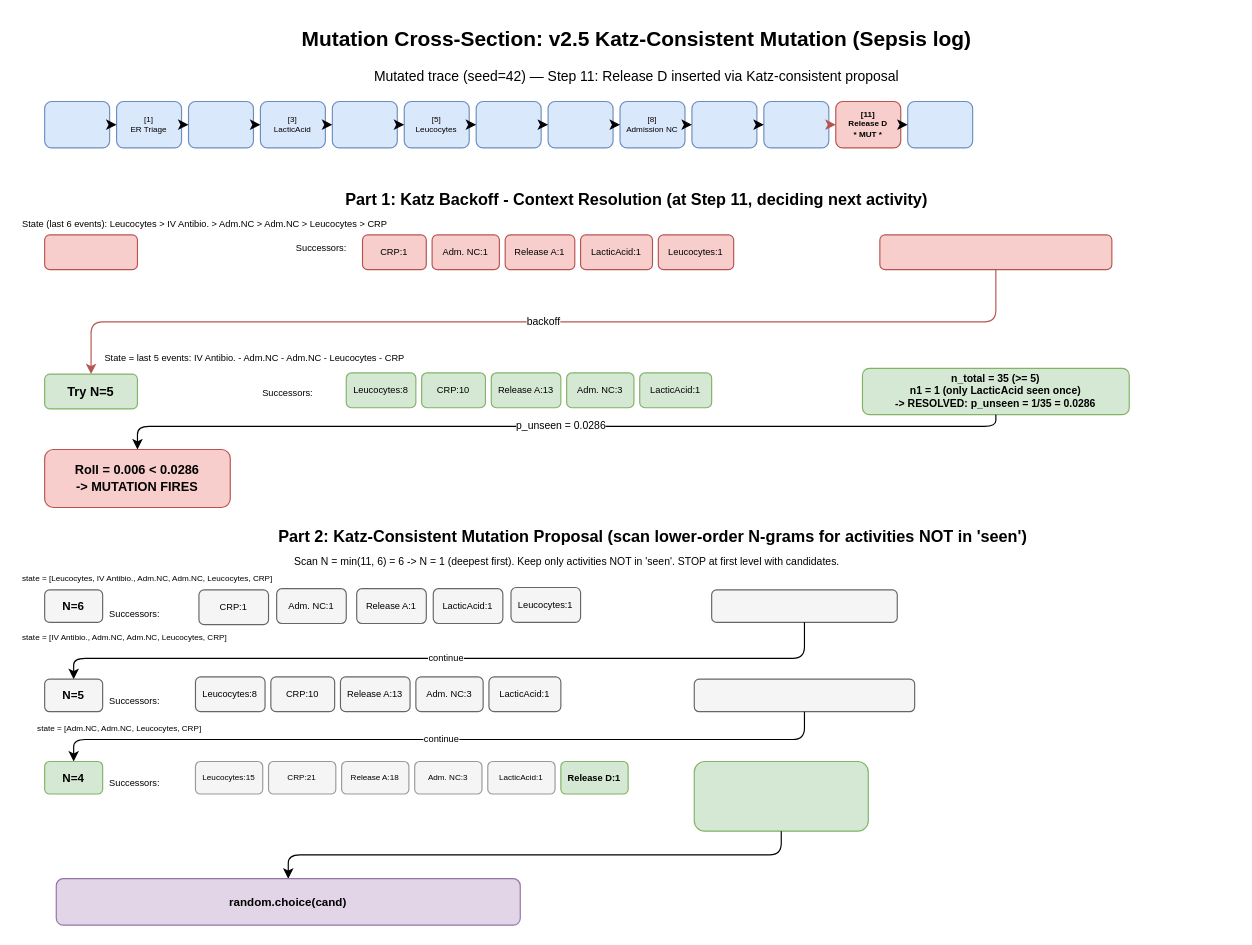
This 1252x945 diagram has some shape labels left out. Here are the shapes that lost their labels. From the top down, the centre of each, then its label:
the point at 77,124: [0] ER Reg
the point at 220,124: [2] ER Sepsis Triage
the point at 364,124: [4] CRP
the point at 508,124: [6] IV Antibio.
the point at 580,124: [7] Admission NC
the point at 724,124: [9] Leucocytes
the point at 796,124: [10] CRP
the point at 940,124: [12] Return ER
the point at 90,252: Try N=6
the point at 995,252: n_total = 5 (5 successors each seen once) -> FAIL: p_unseen = 5/5 = 1.0
the point at 803,605: All already in 'seen' -> no candidates
the point at 804,695: Resolved level itself -> exploit choices, nothing new
the point at 780,795: cand={Release D:1} ≠ ∅ STOP, ignore N=3..N=1
